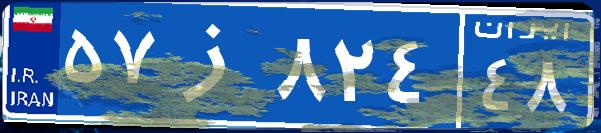2: (330, 28, 385, 110)
4: (385, 28, 445, 110), (475, 38, 525, 113)
5: (57, 26, 110, 107)
7: (110, 28, 158, 105)
8: (273, 28, 330, 110), (525, 38, 570, 115)
ز: (158, 15, 273, 115)
